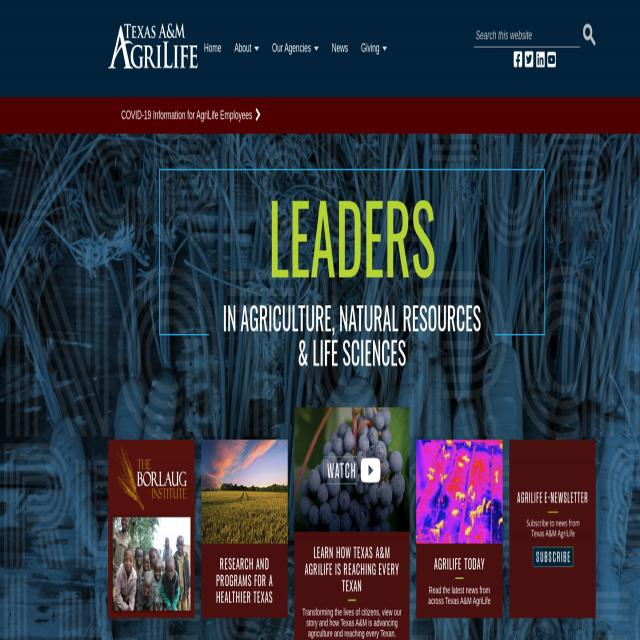button: (294, 407, 410, 532), (201, 440, 288, 543), (416, 440, 503, 543), (112, 516, 190, 610), (115, 97, 267, 134), (108, 23, 198, 68), (266, 34, 325, 62), (354, 34, 394, 62), (228, 34, 266, 62), (198, 34, 228, 62), (326, 34, 354, 62), (533, 548, 573, 566), (582, 23, 596, 47), (525, 50, 536, 70), (536, 50, 547, 70), (514, 50, 524, 70), (547, 50, 555, 70)
field: (474, 24, 580, 48)
